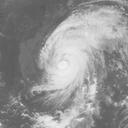cyclone: (39, 42, 88, 89)
